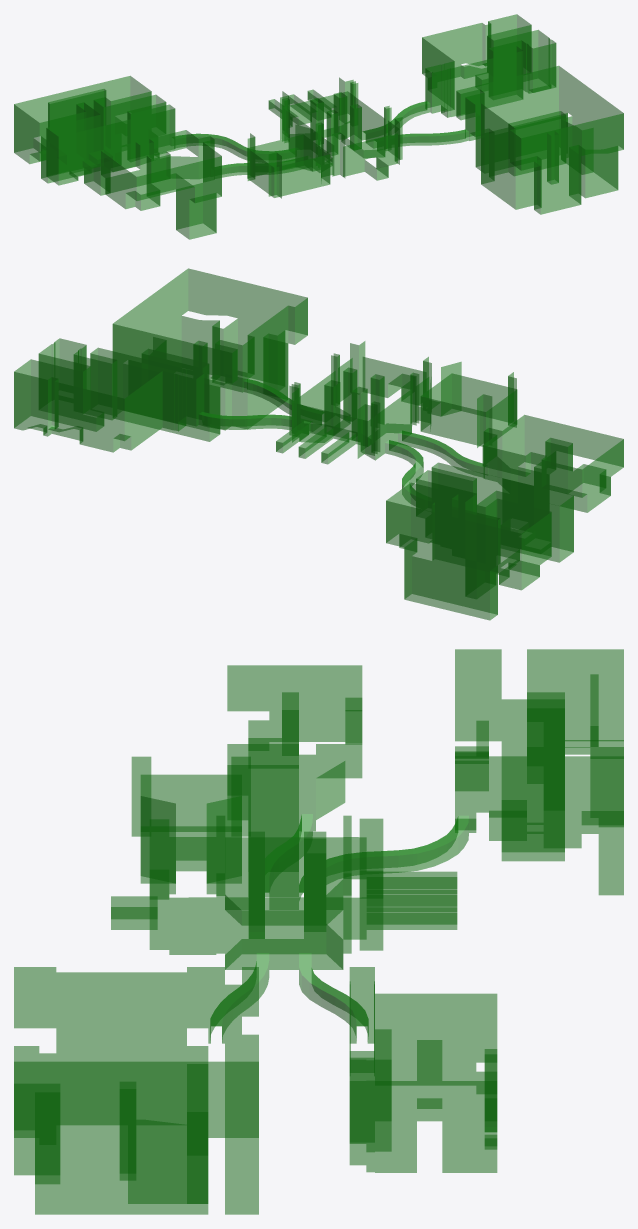
Rendered from stg156_wall.obj.
3 views of the same model, one above another, from view 1: azimuth 30°, elevation 25°; view 2: azimuth 150°, elevation 25°; view 3: azimuth 270°, elevation 25° (orthographic). The views are drawn at different scales.
Bounding box in the file's own units: 242 × 44.95 × 144.
